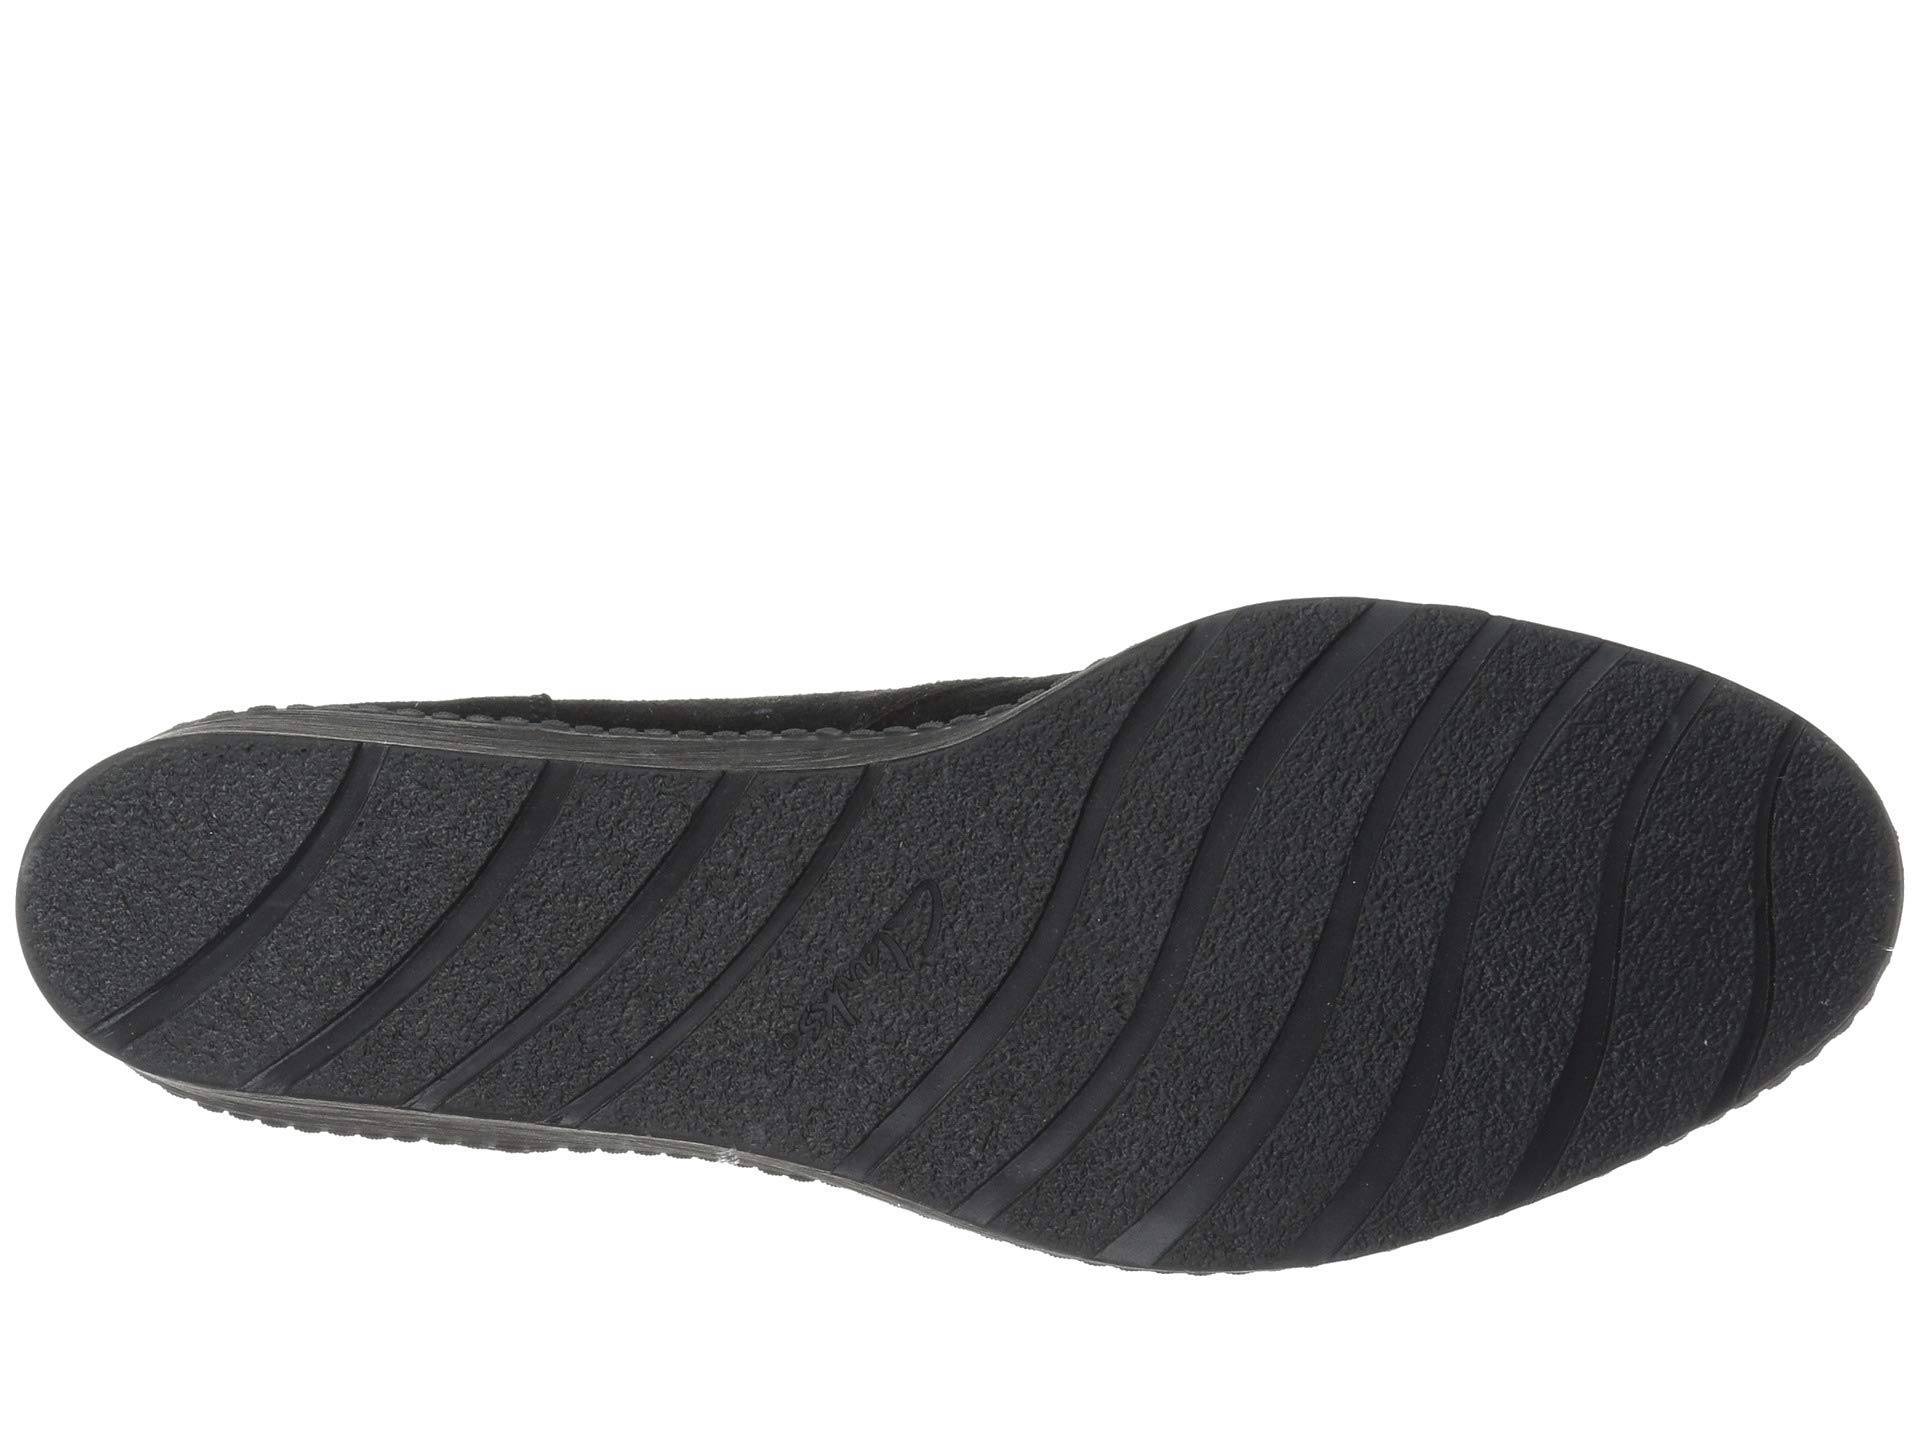line: (1005, 737, 1436, 1209), (1444, 706, 1798, 1083), (460, 765, 788, 1103), (153, 762, 447, 1085), (788, 911, 949, 1089)
text: (788, 911, 949, 1089)
